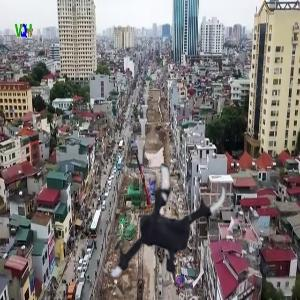drone: (87, 145, 238, 296)
